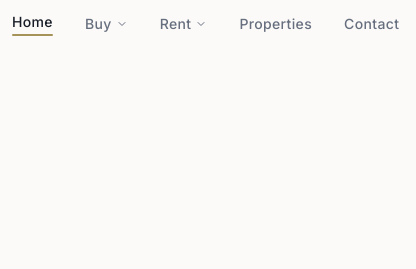
Test: MegaMenu › keeps empty categories visible but dimmed
Click the button "Buy": [106, 24] box x1=85 y1=14 x2=128 y2=34
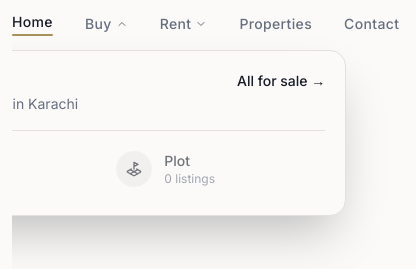
Check: the link "Plot 0 listings" is shown, box x1=116 y1=150 x2=215 y2=186
